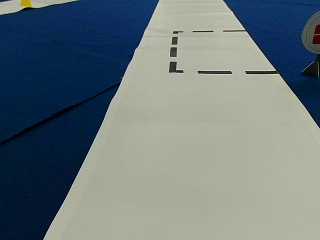company: (301, 12, 320, 52)
